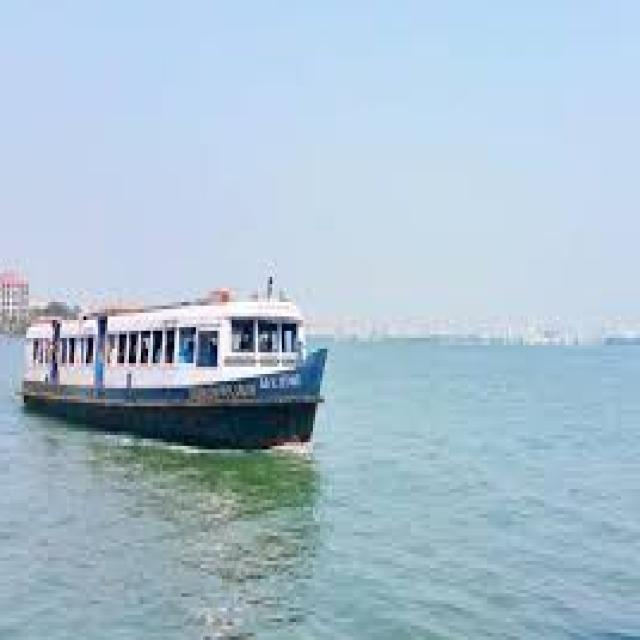houseboat: (7, 276, 327, 426)
